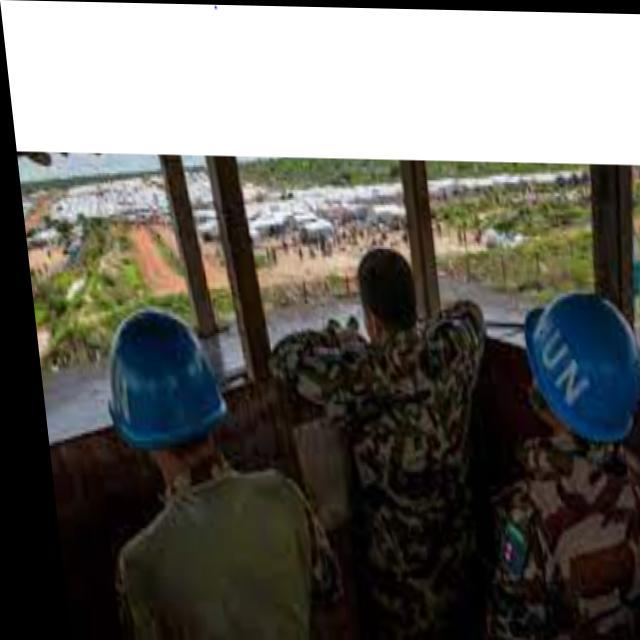hard_hat: (89, 303, 238, 463), (513, 282, 640, 453)
